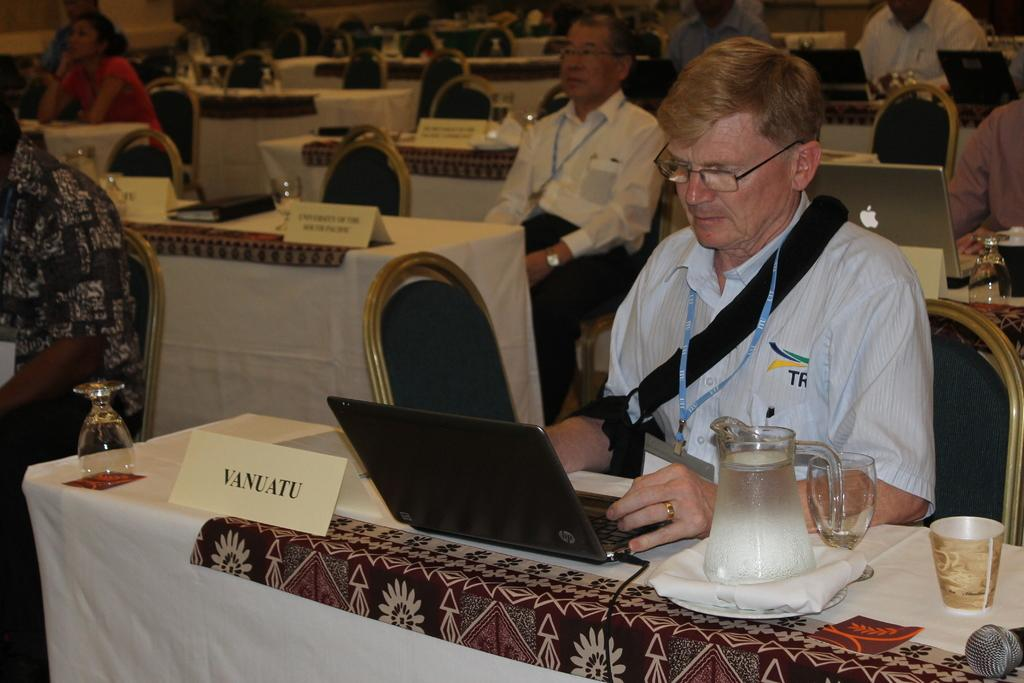Laptop: (317, 379, 683, 577), (806, 167, 979, 288), (936, 51, 1020, 99), (790, 48, 867, 99)
